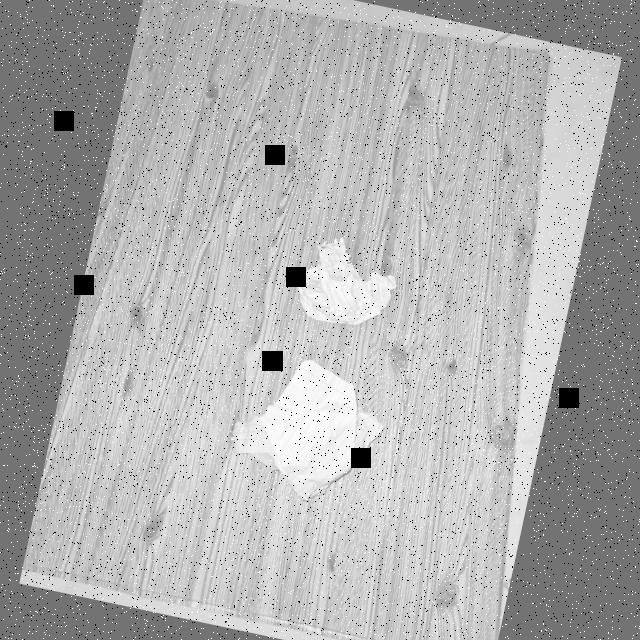scrap_paper: (217, 348, 386, 508), (282, 227, 406, 337)
